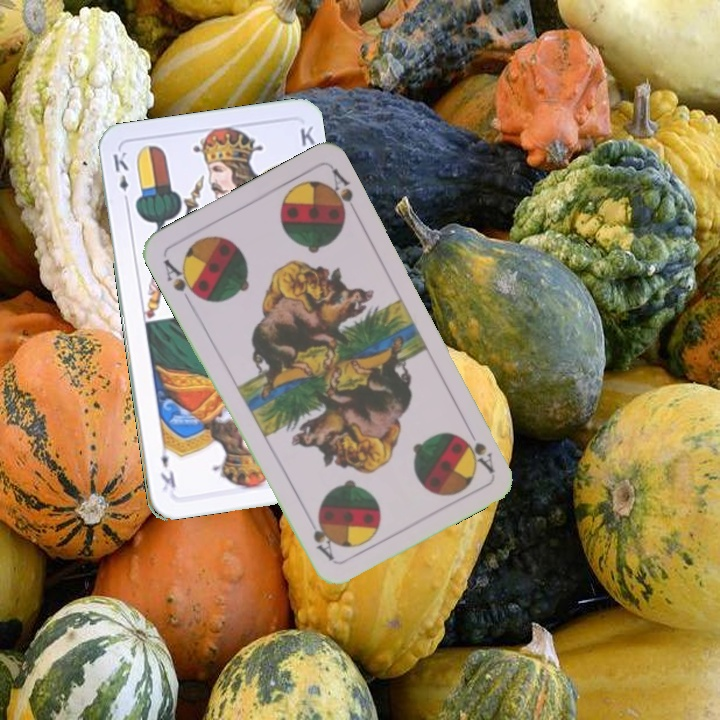EK: (109, 147, 132, 207)
SA: (159, 255, 203, 301), (458, 432, 497, 476)
